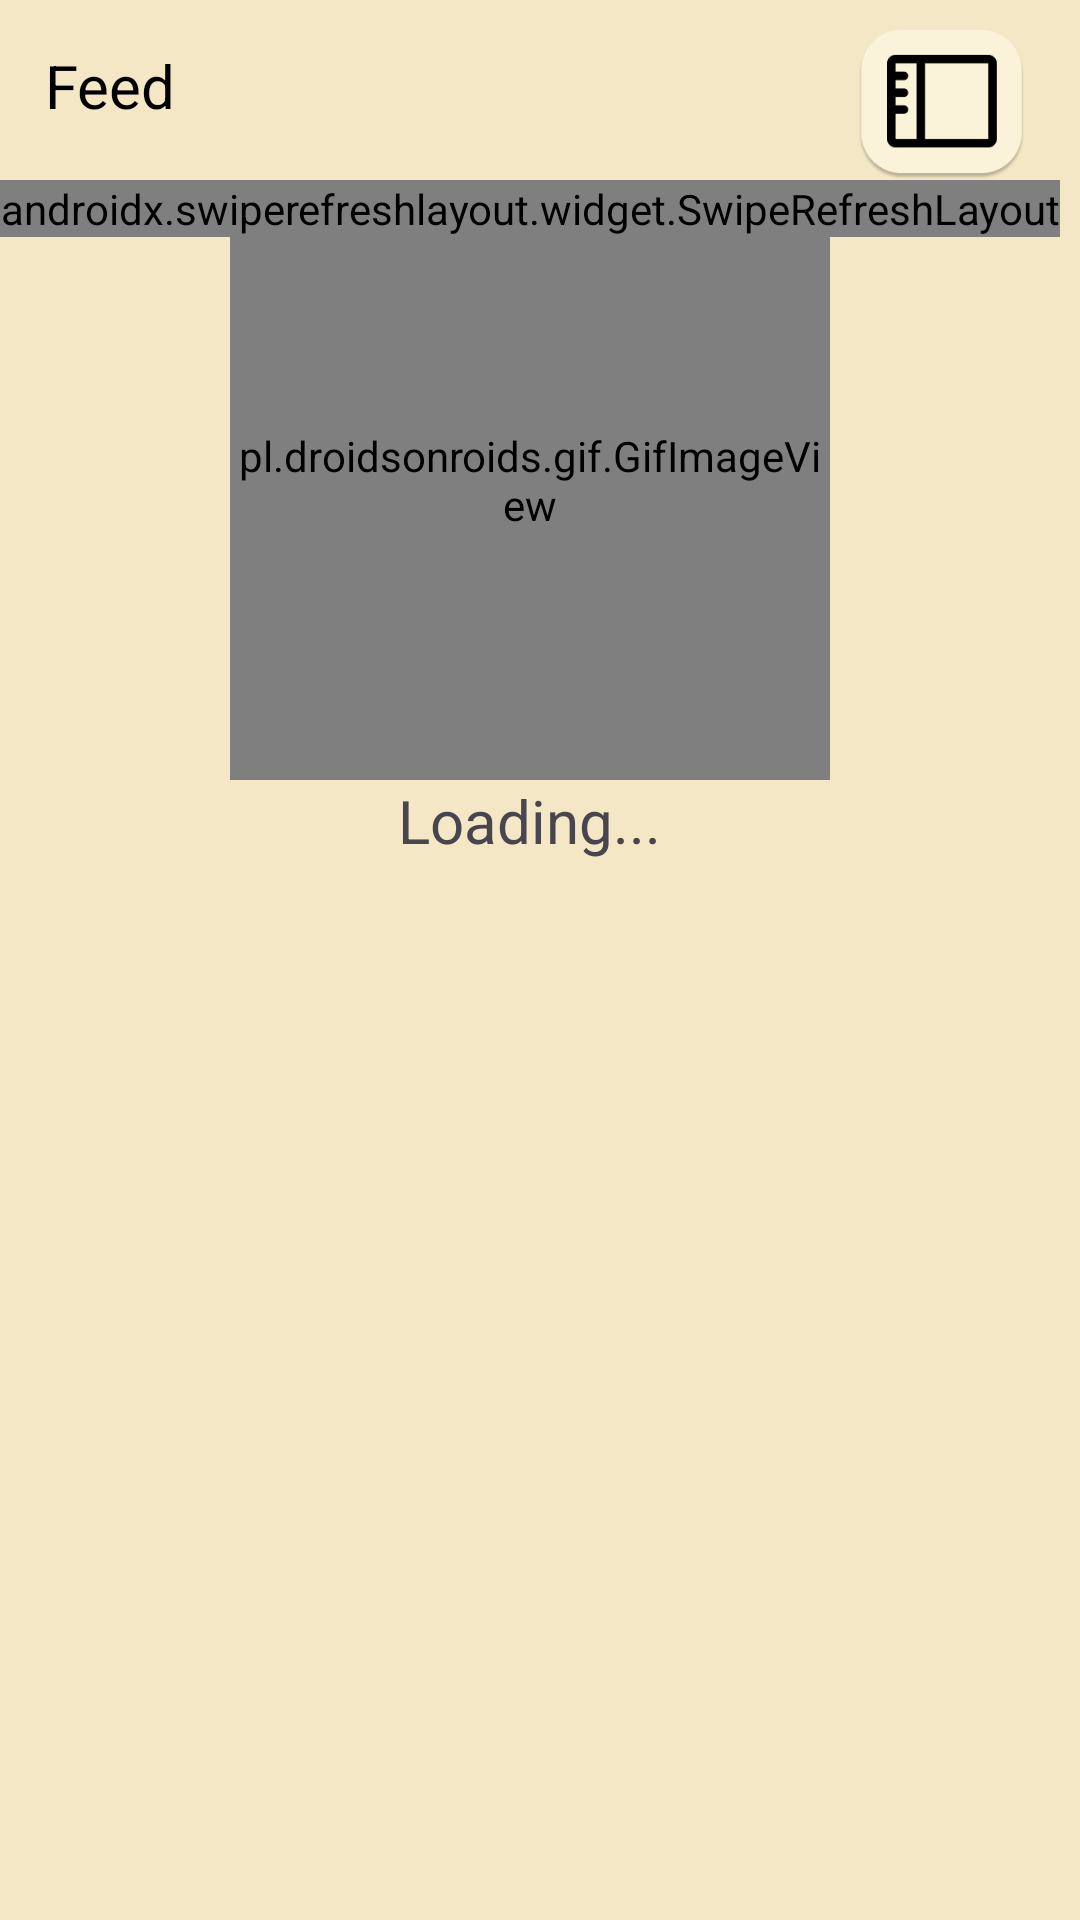

Screen size 1080px×1920px. Icon name, then its box in pixels as [x1,y1,x2,y2]:
boardselector: [860,30,1023,178]
